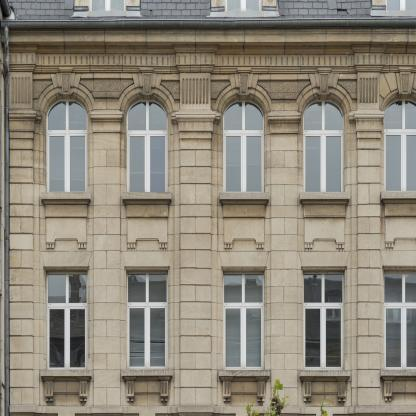Building Outline: (0, 0, 416, 415)
Cornice: (40, 251, 93, 267), (121, 251, 173, 267), (298, 251, 350, 267), (218, 251, 269, 267), (50, 72, 82, 95), (131, 72, 163, 95), (308, 72, 340, 95), (228, 72, 259, 95), (380, 250, 416, 266), (395, 72, 415, 95)
Facade: (0, 0, 415, 415)
Floor: (1, 42, 415, 235), (1, 250, 415, 401)
Floor Slab: (1, 400, 415, 414), (1, 28, 415, 42), (1, 235, 415, 249)
Molding: (2, 44, 416, 73)
Pillar: (175, 73, 216, 416), (354, 73, 384, 406), (9, 72, 36, 416)
Roof: (0, 0, 416, 30)
Sill: (218, 369, 269, 402), (40, 369, 91, 401), (121, 369, 172, 401), (299, 370, 350, 402), (380, 369, 416, 401), (219, 192, 270, 200), (300, 192, 351, 200), (41, 192, 92, 199), (122, 192, 173, 199), (382, 192, 416, 199)
Window: (45, 95, 88, 192), (222, 271, 264, 369), (303, 95, 345, 193), (303, 270, 344, 370), (126, 95, 168, 192), (223, 95, 265, 192), (46, 271, 87, 370), (127, 271, 168, 369), (384, 271, 416, 369), (384, 95, 416, 192), (90, 0, 125, 11), (226, 0, 261, 11), (386, 0, 416, 11)
